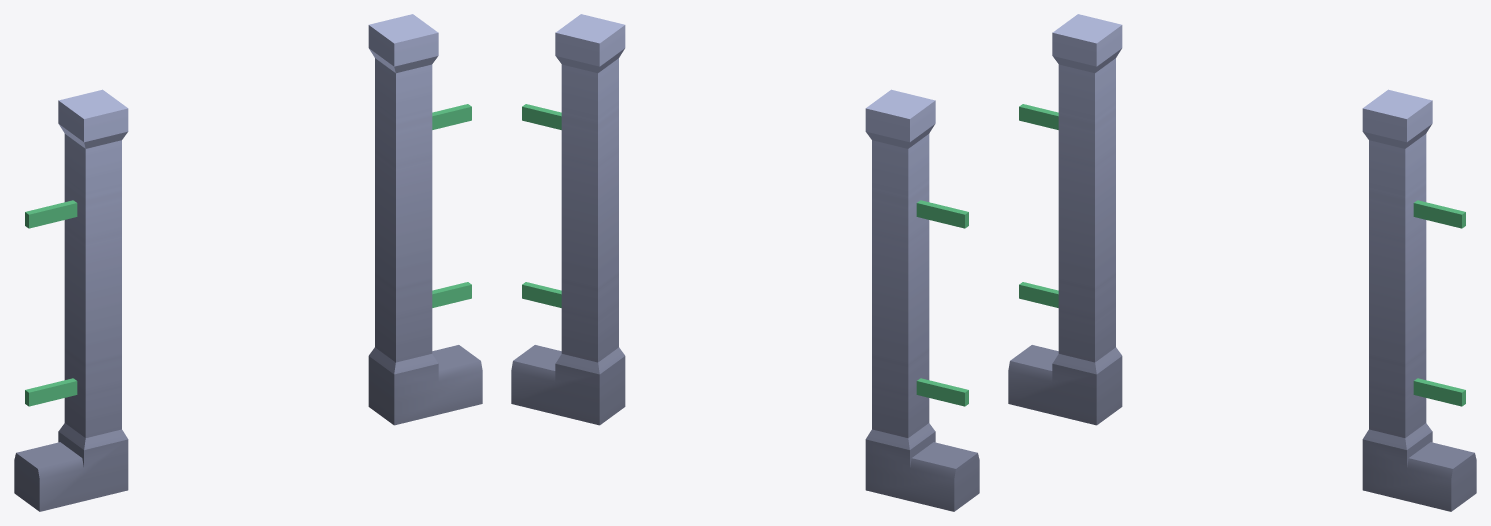
Rendered from iron-fence-border-gate.glb.
3 views of the same model, side by side, from view 1: azimuth 30°, elevation 25°; view 2: azimuth 150°, elevation 25°; view 3: azimuth 330°, elevation 25° (orthographic).
Parts seen in each view (by area): view 1: Asset3DLoader.sceneRoot; view 2: Asset3DLoader.sceneRoot; view 3: Asset3DLoader.sceneRoot.
Boxes of the visible parts, left/top/right/bottom form: Asset3DLoader.sceneRoot: left=14, top=14, right=482, bottom=511; Asset3DLoader.sceneRoot: left=511, top=14, right=979, bottom=511; Asset3DLoader.sceneRoot: left=1008, top=14, right=1476, bottom=511.
Size of the model in its own units: 1 by 0.8239 by 0.1.
Materials: 1 (1 with a texture image).
